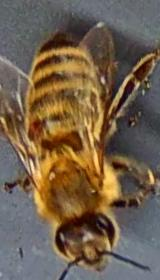varroa_mite: (16, 108, 55, 148)
